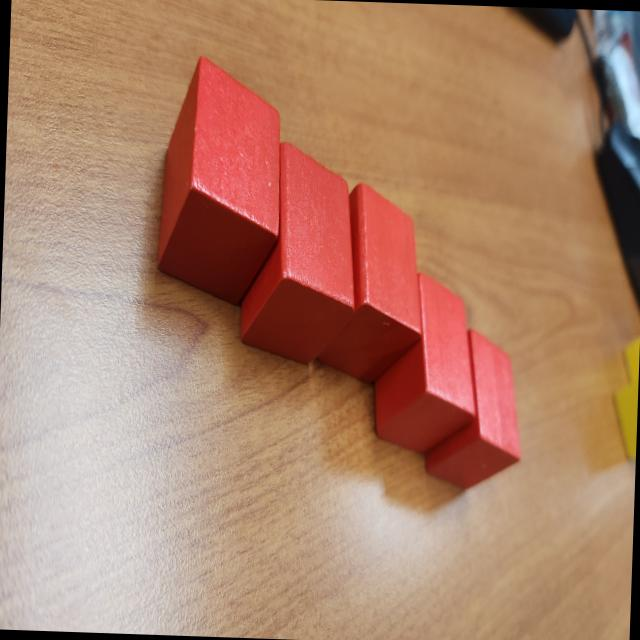red: (154, 55, 285, 308), (238, 140, 361, 366), (313, 179, 427, 389), (371, 270, 480, 458), (424, 327, 526, 493)
yellow: (613, 379, 638, 459), (621, 332, 640, 383)
